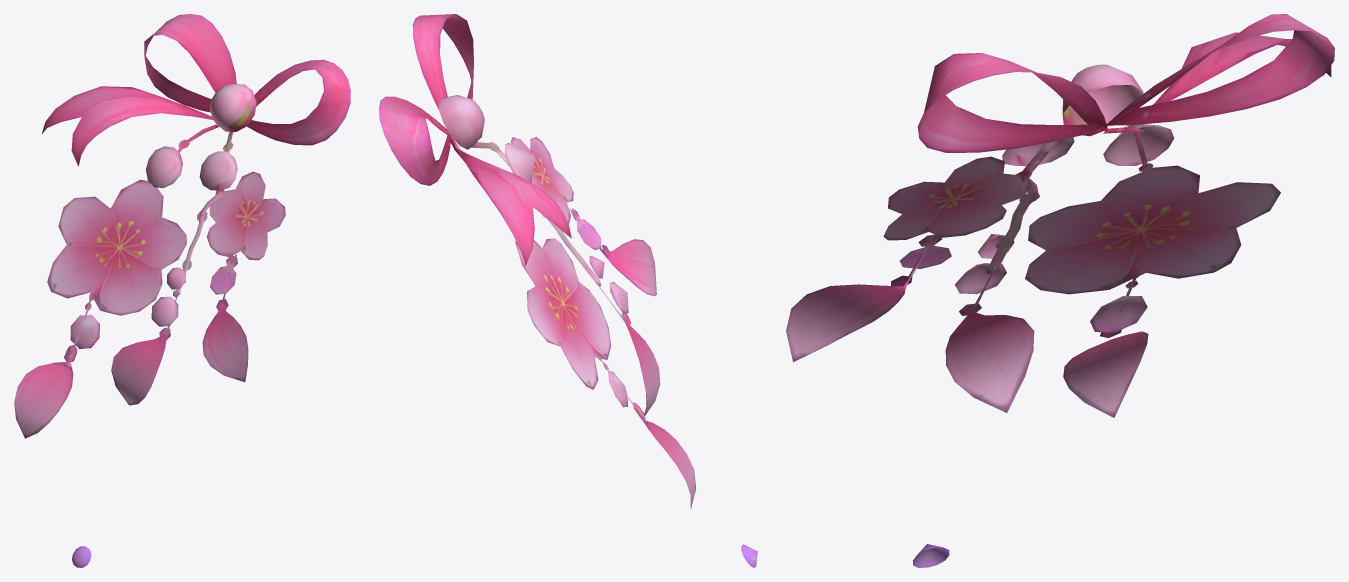
Rendered from SakuraBowWear.fbx.
3 views of the same model, side by side, from view 1: azimuth 30°, elevation 25°; view 2: azimuth 150°, elevation 25°; view 3: azimuth 270°, elevation 25° (orthographic). The views are drawn at different scales.
Visible parts, largest first — view 1: Bow; view 2: Bow; view 3: Bow.
Part boxes in pixels (box(x1,y1,x2,y2)): Bow: box(14, 14, 350, 567); Bow: box(379, 14, 757, 567); Bow: box(786, 14, 1334, 567).
Bounding box in the file's own units: 0.3669 × 0.5305 × 0.3634.
1 material, 1 textured.
